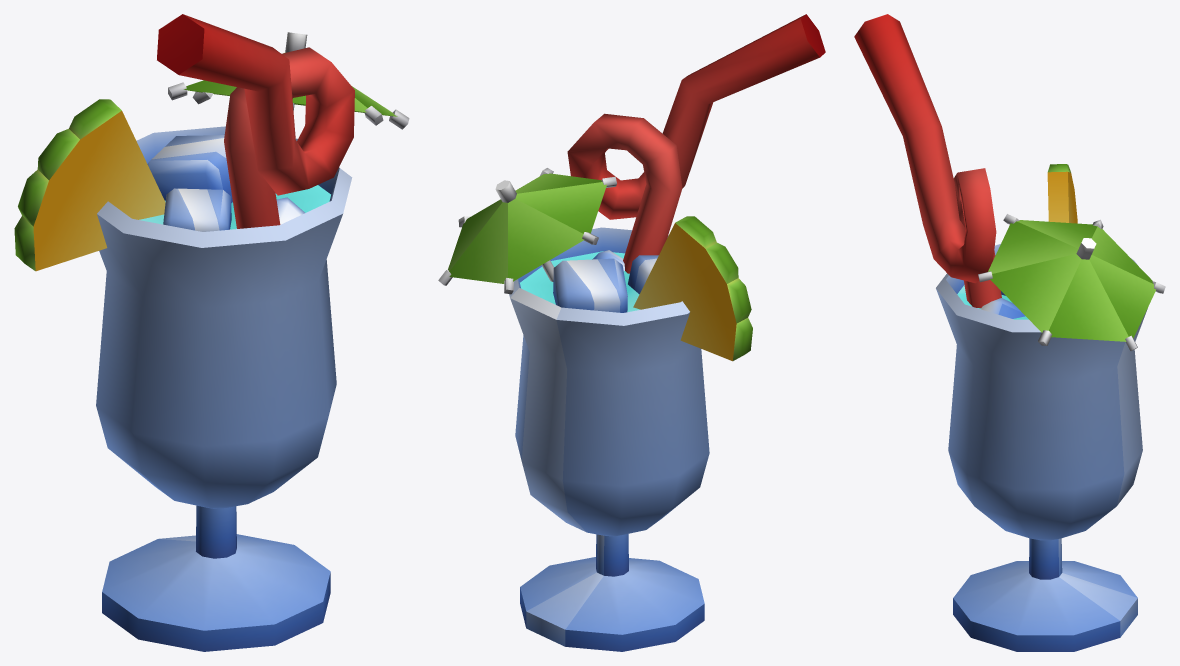
Rendered from m_SwimmingPool01.fbx.
3 renders of one model, left to right at view 1: azimuth 30°, elevation 25°; view 2: azimuth 150°, elevation 25°; view 3: azimuth 270°, elevation 25°, orthographic. The views are drawn at different scales.
Visible parts, largest first — view 1: m_SwimmingPool01; view 2: m_SwimmingPool01; view 3: m_SwimmingPool01.
Part boxes in pixels (bbox=[...]): m_SwimmingPool01: bbox=[14, 14, 409, 651]; m_SwimmingPool01: bbox=[438, 14, 825, 651]; m_SwimmingPool01: bbox=[854, 14, 1165, 651].
Bounding box in the file's own units: 18.54 × 32.78 × 16.85.
